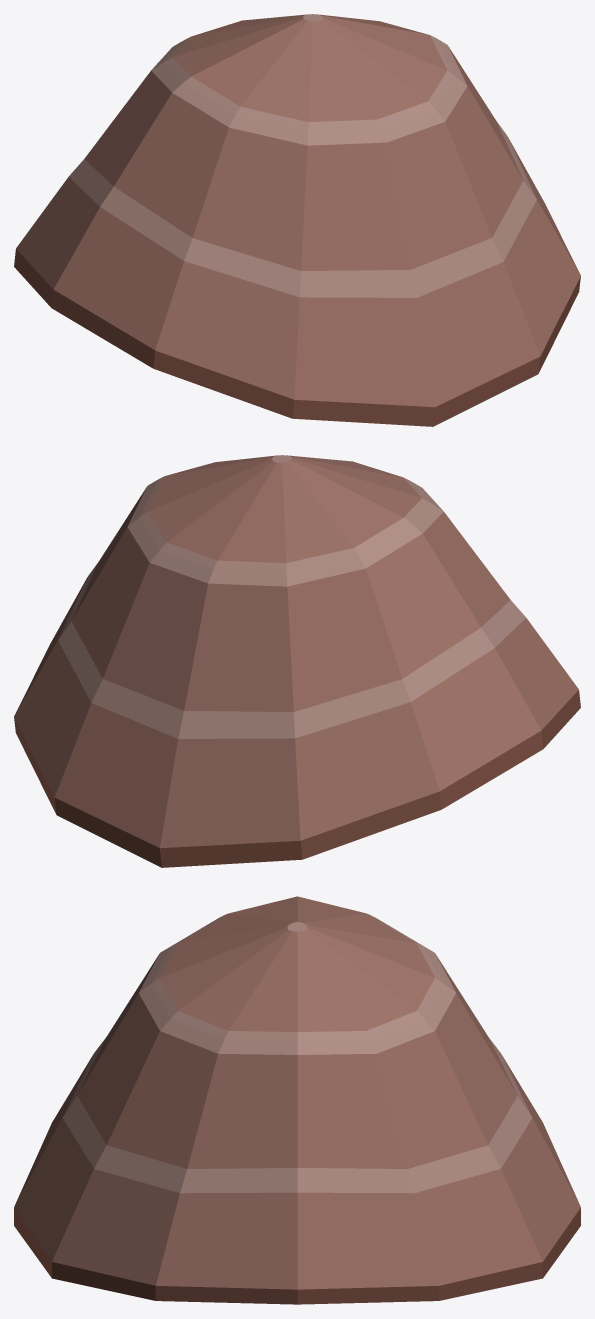
Rendered from SoldierTurtleHeadless.fbx.
3 views of the same model, one above another, from view 1: azimuth 30°, elevation 25°; view 2: azimuth 150°, elevation 25°; view 3: azimuth 270°, elevation 25° (orthographic).
Visible parts, largest first — view 1: Cube.001; view 2: Cube.001; view 3: Cube.001.
Part boxes in pixels (x1=…): Cube.001: x1=14, y1=14, x2=580, y2=426; Cube.001: x1=14, y1=455, x2=580, y2=867; Cube.001: x1=14, y1=896, x2=580, y2=1304.
Bounding box in the file's own units: 82.48 × 48.47 × 80.58.
Materials: 1 (1 with a texture image).
